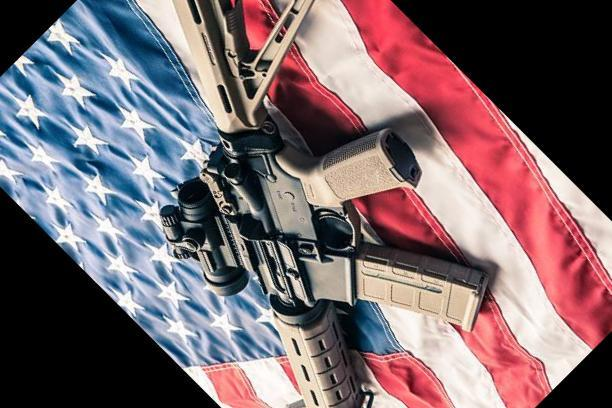larga: (159, 0, 490, 408)
